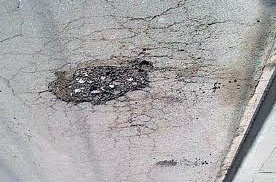pothole: (44, 54, 155, 106)
